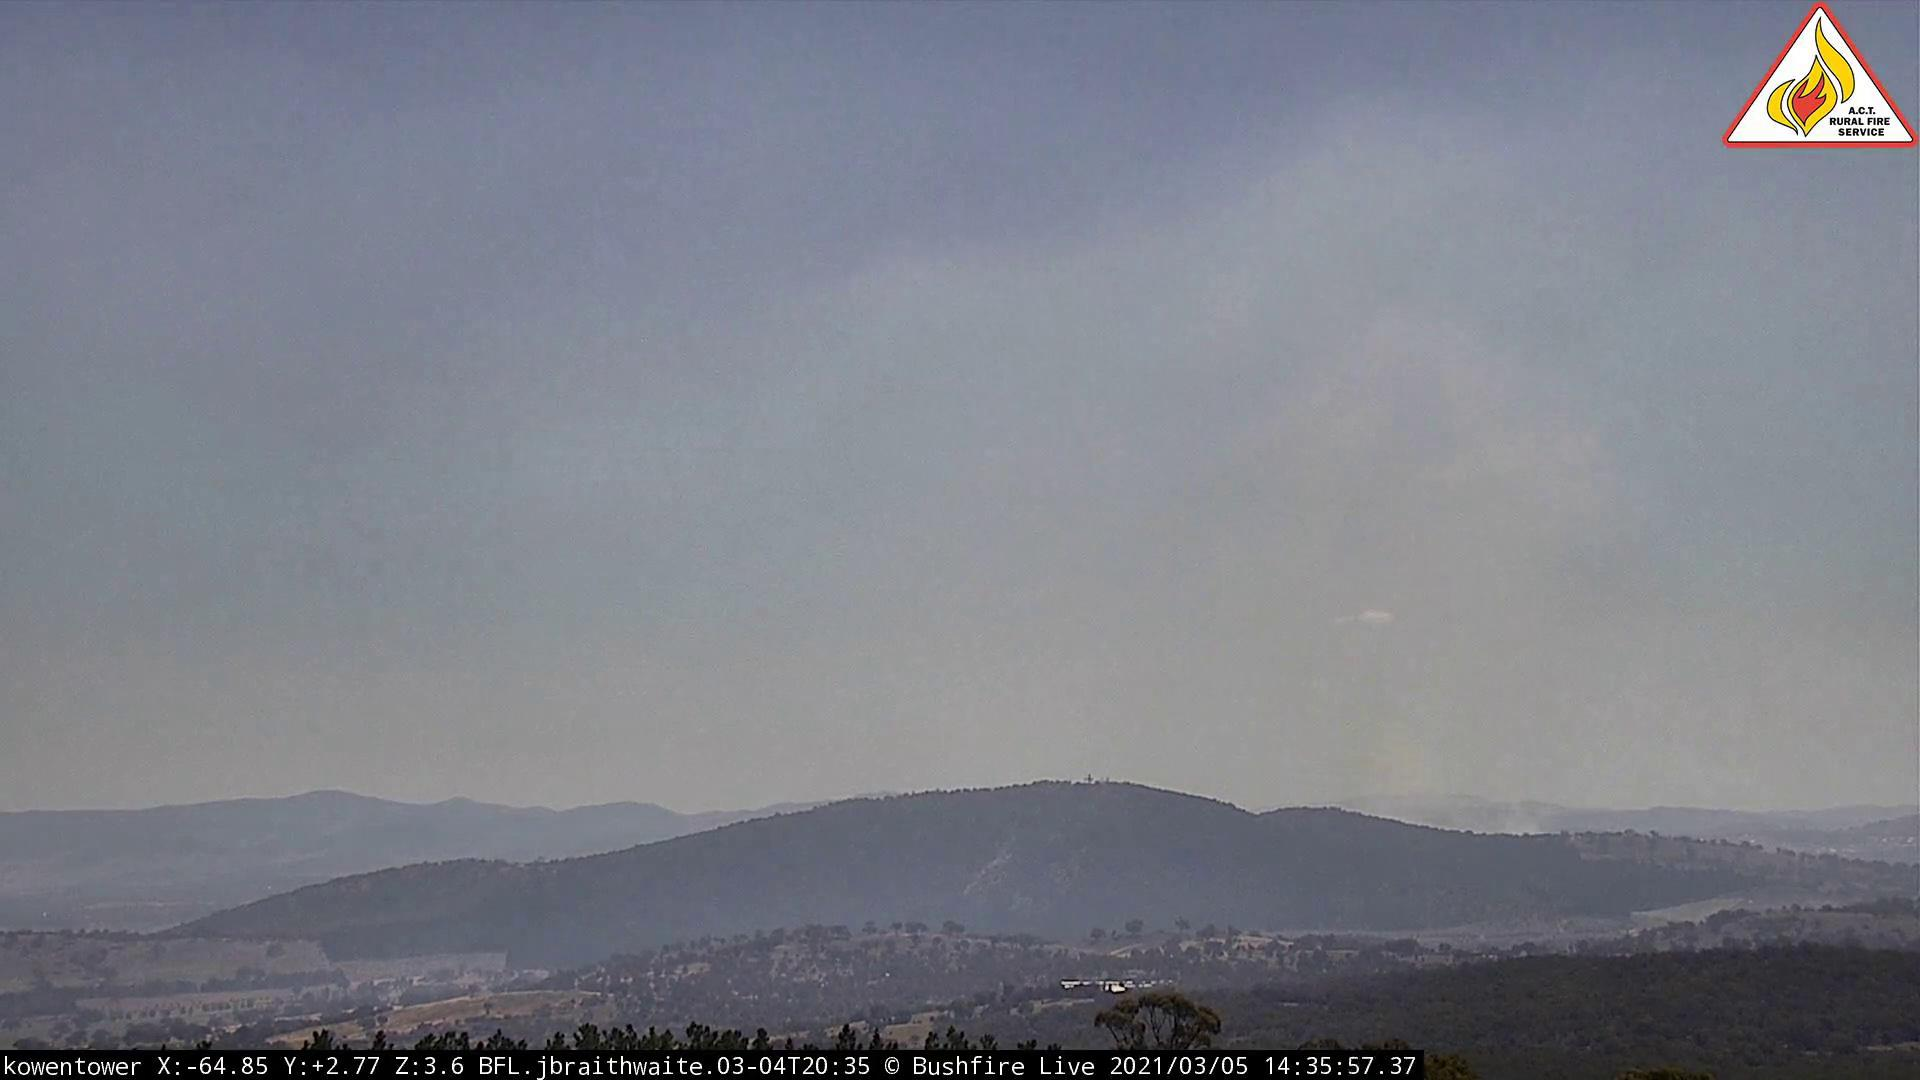Smoke: (1205, 291, 1673, 851)
